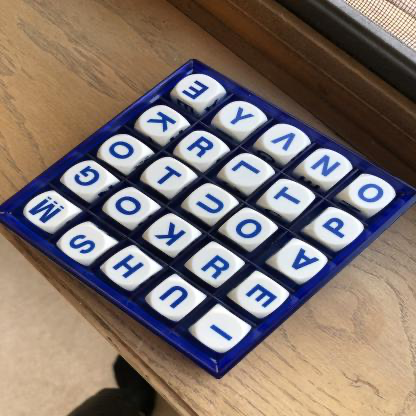a: (277, 243, 324, 279)
e: (239, 279, 283, 314), (178, 76, 221, 106)
g: (65, 162, 109, 195)
h: (103, 253, 151, 288)
i: (196, 313, 247, 350)
k: (149, 219, 193, 251), (141, 108, 183, 140)
l: (226, 156, 270, 188)
m: (27, 193, 72, 227)
n: (305, 150, 349, 184)
o: (106, 190, 152, 223), (349, 178, 395, 210), (227, 213, 271, 245), (103, 137, 144, 168)
p: (315, 214, 362, 245)
r: (192, 248, 237, 284), (180, 134, 223, 163)
s: (61, 228, 107, 263)
t: (267, 183, 311, 216), (146, 160, 191, 192)
u: (151, 282, 197, 320), (188, 188, 232, 220)
v: (261, 124, 307, 157)
y: (219, 101, 263, 134)
